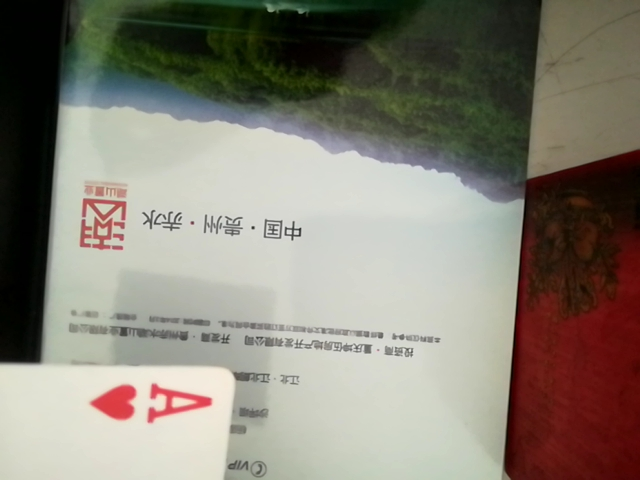hx a: (2, 357, 254, 479)
